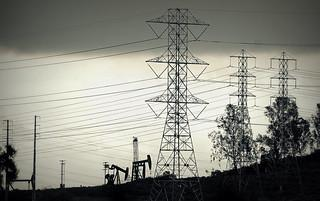power_tower: (149, 7, 204, 201), (227, 46, 257, 132), (267, 48, 301, 121)
